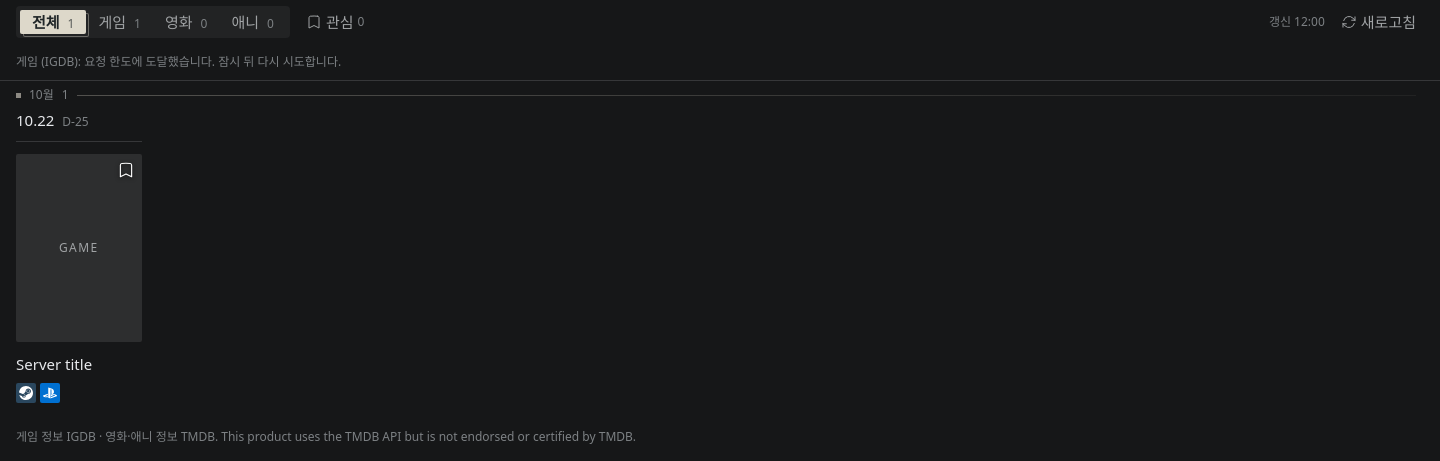
Test: server calendar handover › returns to local calendar status when the feature is no longer advertised
Expected: the text "게임 (IGDB): 요청 한도에 도달했습니다. 잠시 뒤 다시 시도합니다." is shown, [16, 53, 341, 70]
Click the button "새로고침".
click(1378, 22)  # box [1333, 8, 1424, 36]
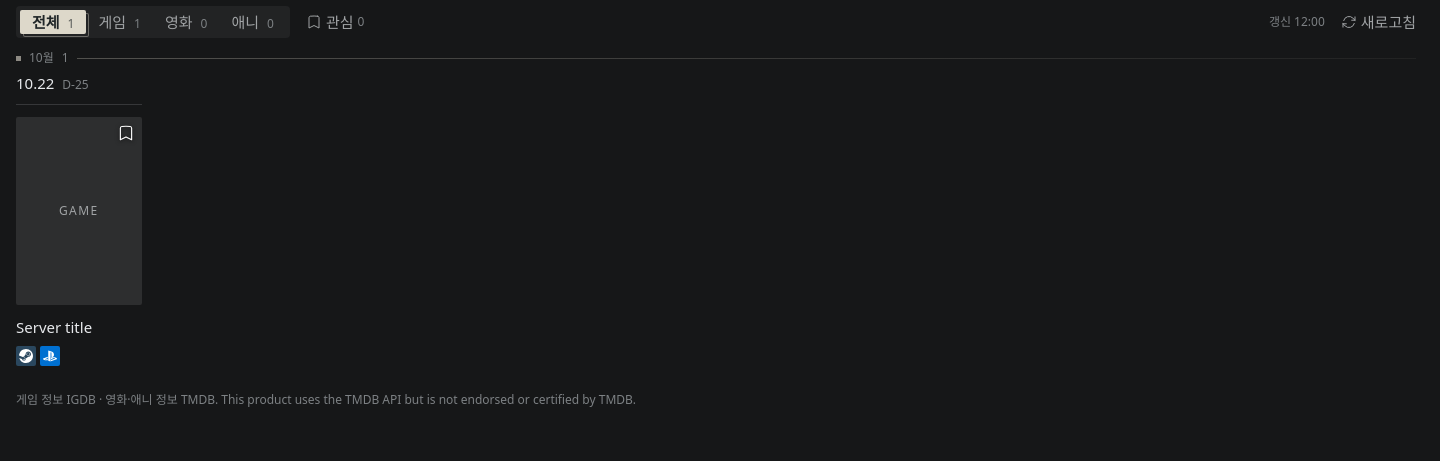
Expected: the text "Server title" is shown, [16, 317, 92, 337]
Expected: the text "게임 (IGDB):" is gone
